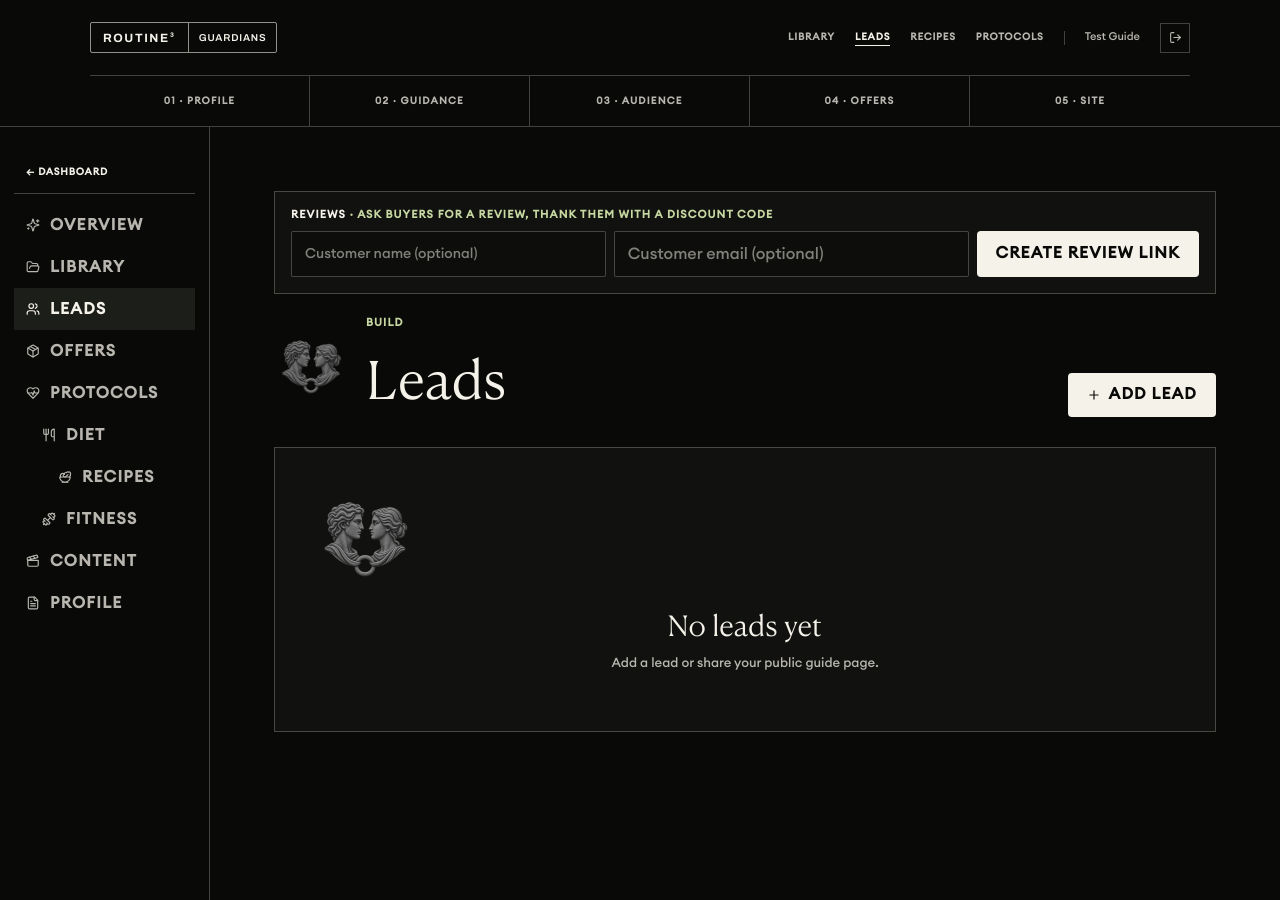
keeps a failed Add form editable and shows its save error
The image size is (1280, 900).
Click the button "Add lead" at (1142, 395), box left=1068, top=373, right=1216, bottom=417
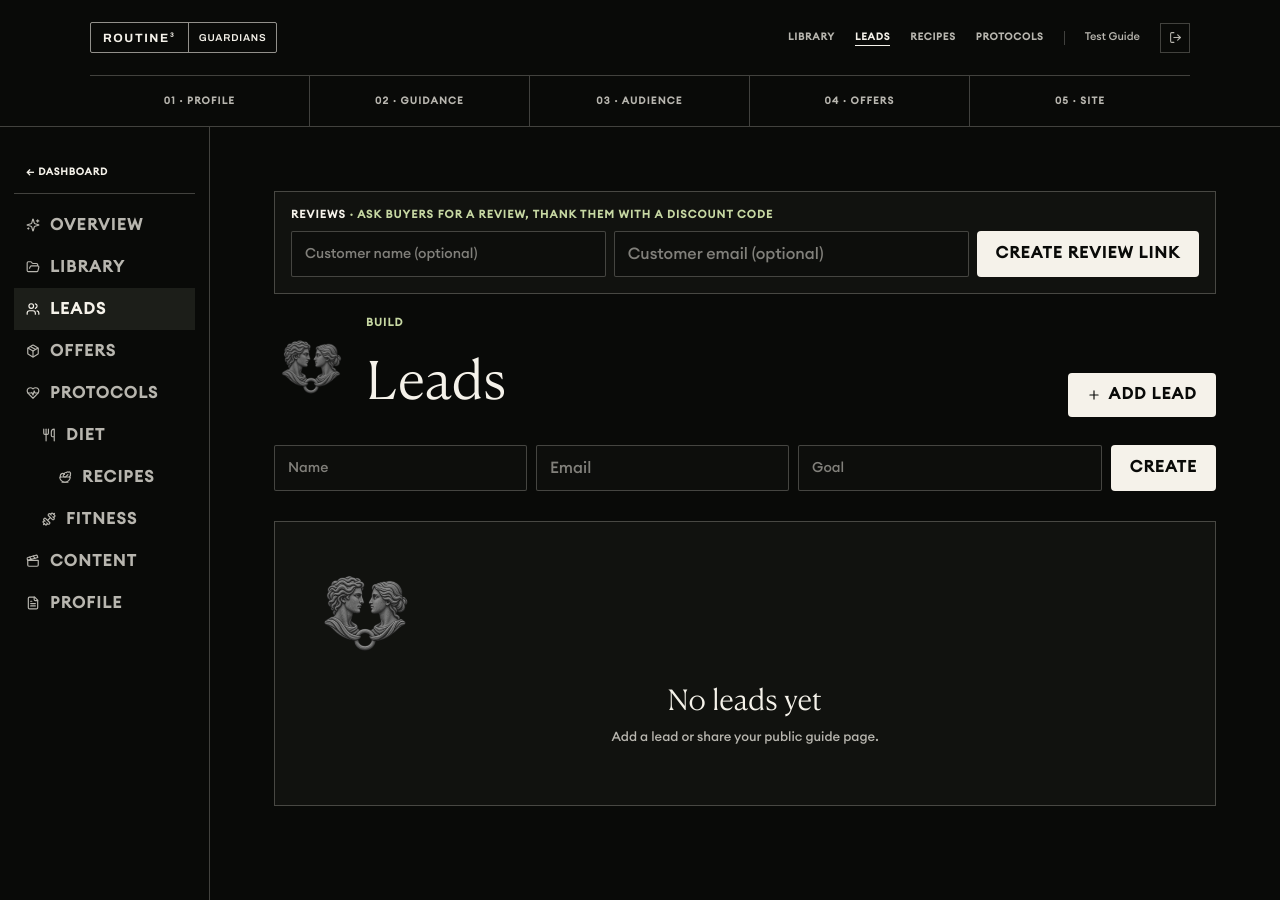
Type "QA lead" into the field with placeholder "Name" at (400, 468), box left=274, top=445, right=527, bottom=491
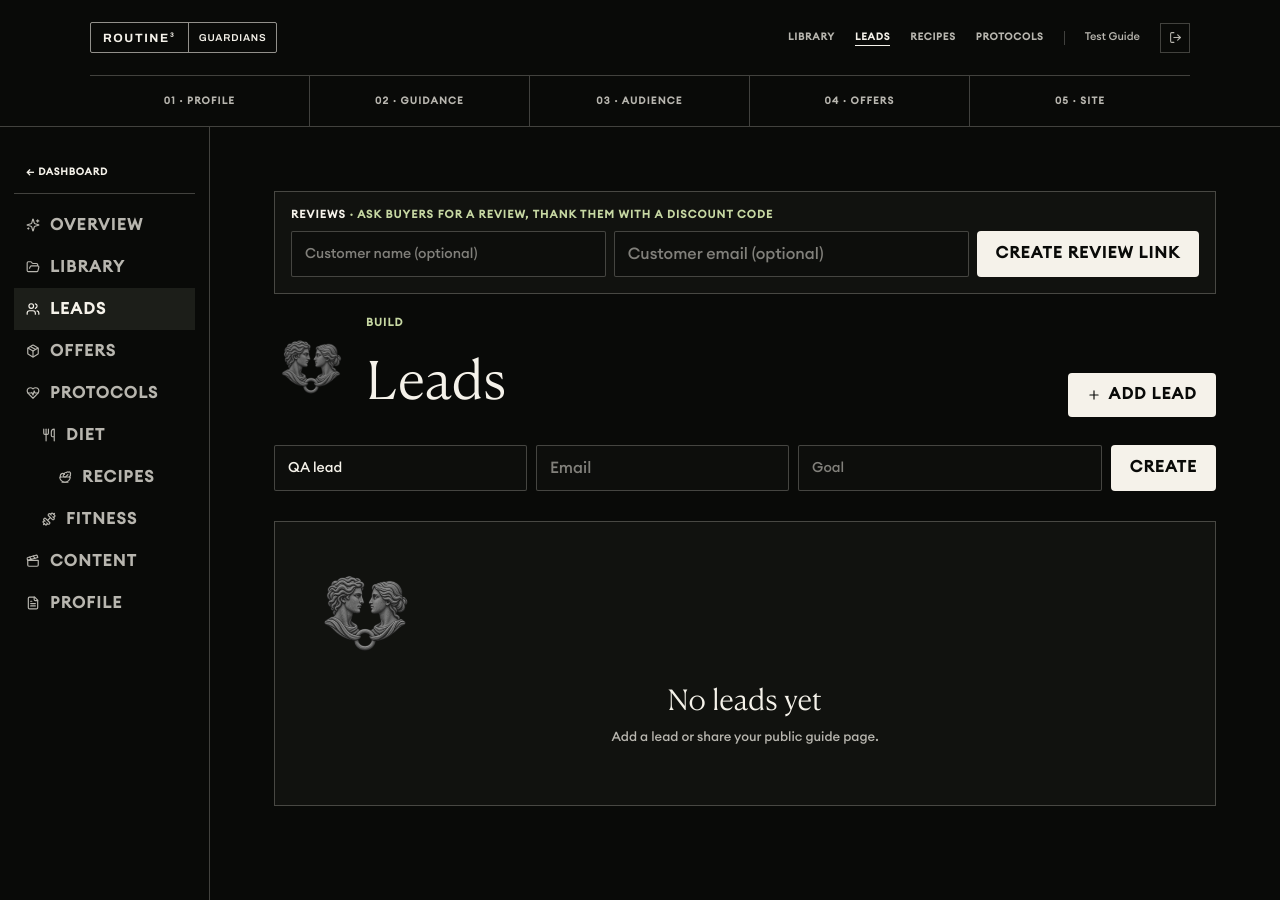
Click the button "Create" at (1163, 468), box left=1111, top=445, right=1216, bottom=491
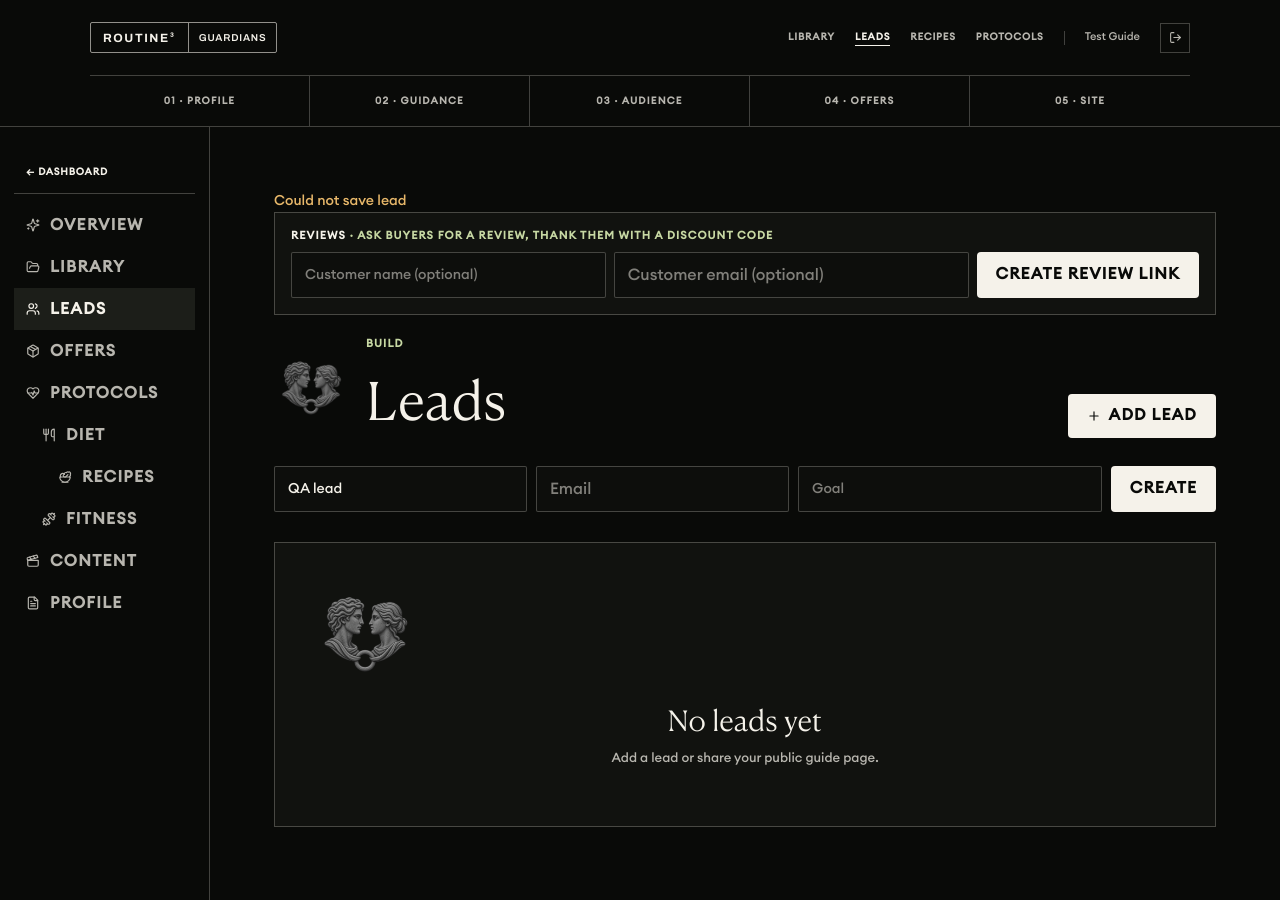
Check: the button "Create" is enabled, box left=1111, top=466, right=1216, bottom=512
Check: the message reads "Could not save lead", box left=274, top=194, right=406, bottom=208
